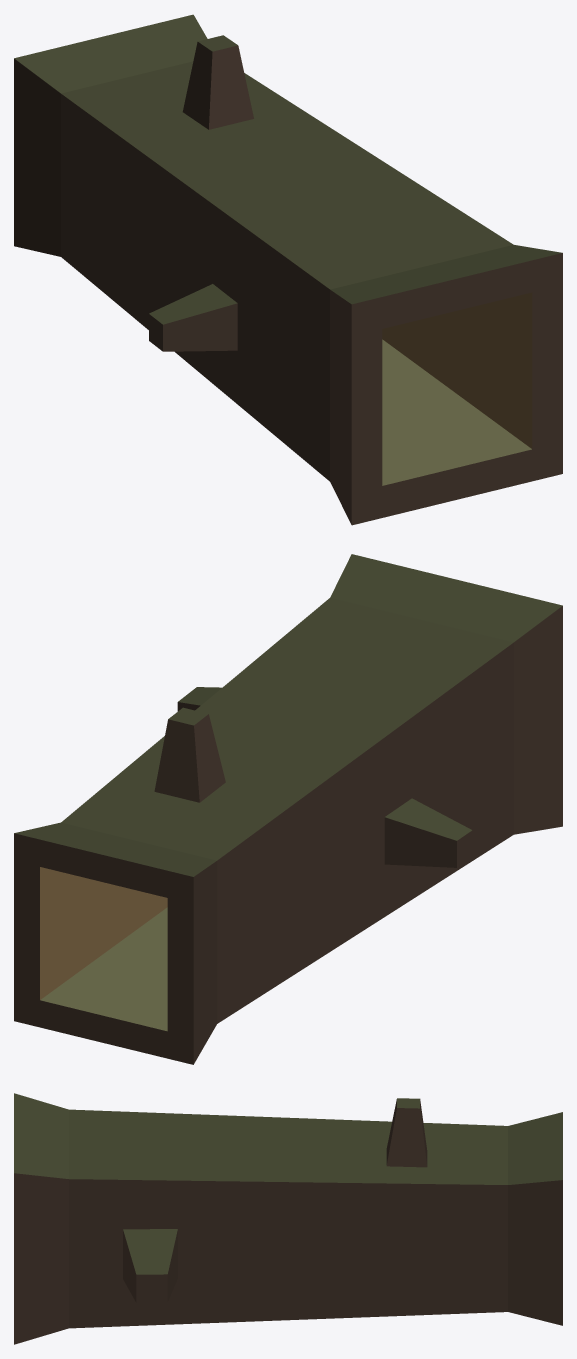
Rendered from rn_log.glb.
The picture shows the model from 3 angles, top to bottom: view 1: azimuth 30°, elevation 25°; view 2: azimuth 150°, elevation 25°; view 3: azimuth 270°, elevation 25°; orthographic projection. The views are drawn at different scales.
Visible parts, largest first — view 1: rn_log; view 2: rn_log; view 3: rn_log.
Part boxes in pixels (x1,y1,x2,y2): rn_log: (14,14,562,525); rn_log: (14,554,562,1064); rn_log: (14,1093,562,1344).
Size of the model in its own units: 1.87 by 1.42 by 3.4.
